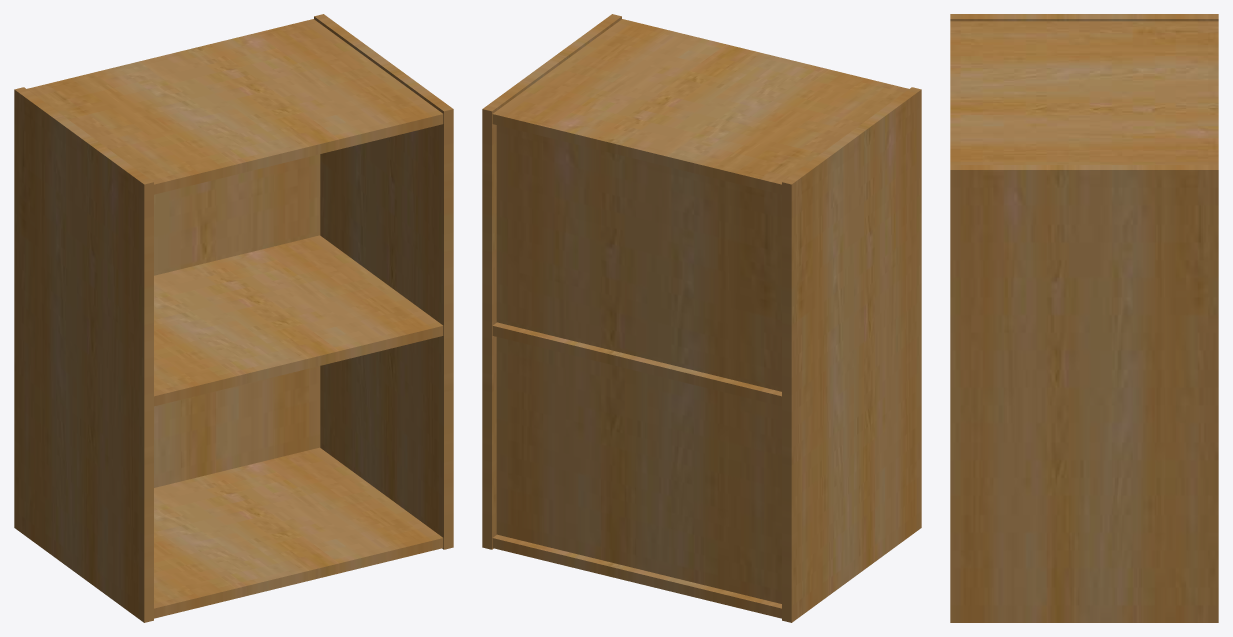
The model's file is sweethome3d-contributions-bedside-table-336.glb.
3 renders of one model, left to right at view 1: azimuth 30°, elevation 25°; view 2: azimuth 150°, elevation 25°; view 3: azimuth 270°, elevation 25°, orthographic. The views are drawn at different scales.
Parts seen in each view (by area): view 1: Cube_16_4, Cube_16_1_5, Cube_15_1, Cube_15_1_2, Cube_15_2_3, Cube_17_6; view 2: Cube_17_6, Cube_16_4, Cube_15_1, Cube_16_1_5, Cube_15_1_2, Cube_15_2_3; view 3: Cube_16_1_5, Cube_15_1, Cube_16_4.
Boxes of the visible parts, x1,y1,x2,y2 form: Cube_16_4: (14, 87, 153, 622); Cube_16_1_5: (314, 14, 453, 549); Cube_15_1: (27, 19, 443, 194); Cube_15_1_2: (154, 235, 443, 406); Cube_15_2_3: (154, 447, 443, 618); Cube_17_6: (154, 154, 320, 487); Cube_17_6: (496, 125, 781, 603); Cube_16_4: (782, 87, 921, 622); Cube_15_1: (492, 19, 908, 194); Cube_16_1_5: (482, 14, 621, 549); Cube_15_1_2: (492, 322, 781, 406); Cube_15_2_3: (492, 534, 781, 618); Cube_16_1_5: (950, 165, 1218, 622); Cube_15_1: (950, 21, 1218, 164); Cube_16_4: (950, 14, 1218, 21).
Size of the model in its own units: 39.87 by 54 by 29.
1 material, 1 textured.
